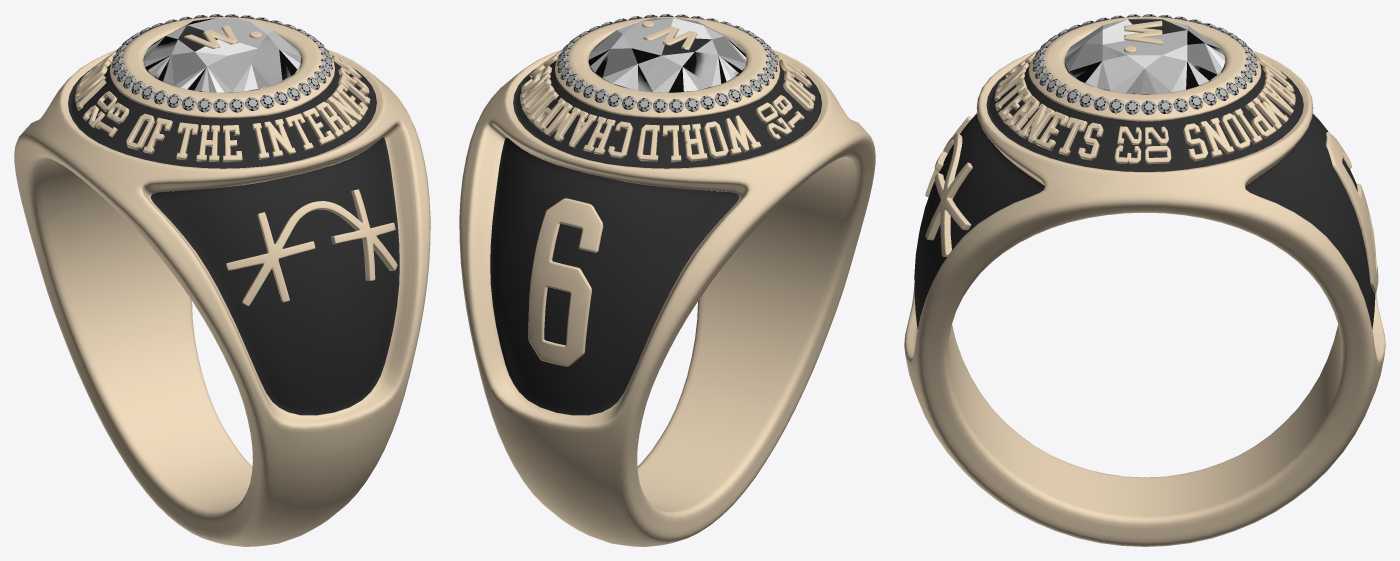
Rendered from ring.compressed.glb.
3 views of the same model, side by side, from view 1: azimuth 30°, elevation 25°; view 2: azimuth 150°, elevation 25°; view 3: azimuth 270°, elevation 25° (orthographic).
Parts seen in each view (by area): view 1: Cylinder.001, ring-gold, diamond.001; view 2: Cylinder.001, ring-gold, diamond.001; view 3: Cylinder.001, ring-gold, diamond.001.
Part boxes in pixels (left/top/right/bottom): Cylinder.001: left=14, top=17, right=430, bottom=546; ring-gold: left=68, top=61, right=399, bottom=415; diamond.001: left=143, top=18, right=301, bottom=92; Cylinder.001: left=459, top=17, right=875, bottom=546; ring-gold: left=490, top=60, right=821, bottom=415; diamond.001: left=588, top=18, right=746, bottom=92; Cylinder.001: left=904, top=16, right=1385, bottom=546; ring-gold: left=914, top=62, right=1375, bottom=329; diamond.001: left=1064, top=17, right=1225, bottom=94.
Size of the model in its own units: 0.2118 by 0.3157 by 0.2738.
Materials: 3 (1 with a texture image).
